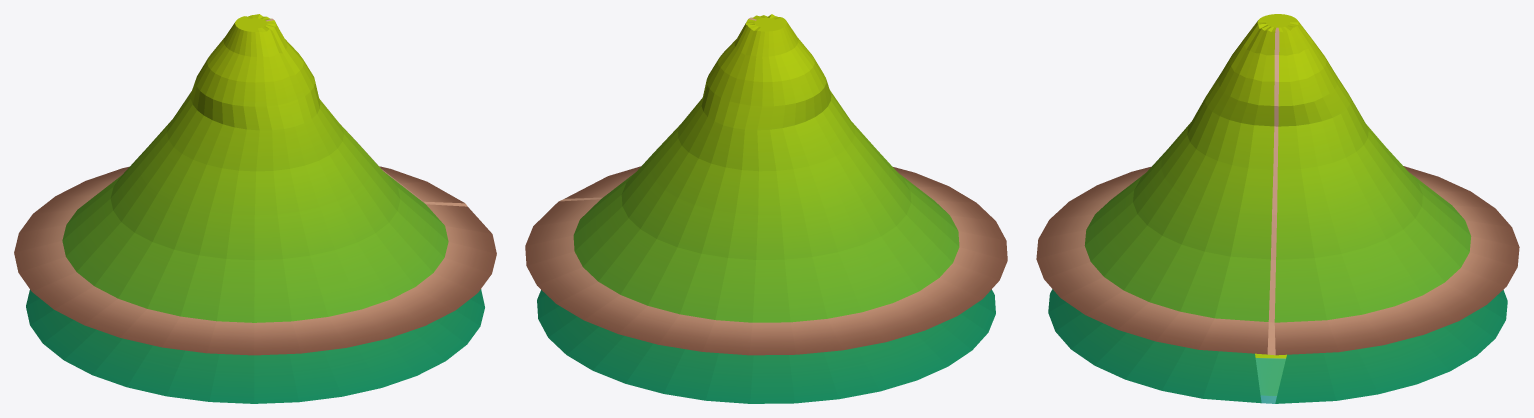
Rendered from Menue Mountain.fbx.
3 renders of one model, left to right at view 1: azimuth 30°, elevation 25°; view 2: azimuth 150°, elevation 25°; view 3: azimuth 270°, elevation 25°, orthographic.
Parts seen in each view (by area): view 1: Sphere.003; view 2: Sphere.003; view 3: Sphere.003.
Part boxes in pixels (<box>): Sphere.003: <box>14,14,496,403</box>; Sphere.003: <box>525,14,1007,403</box>; Sphere.003: <box>1036,14,1519,403</box>.
Bounding box in the file's own units: 1190 × 775 × 1190.
